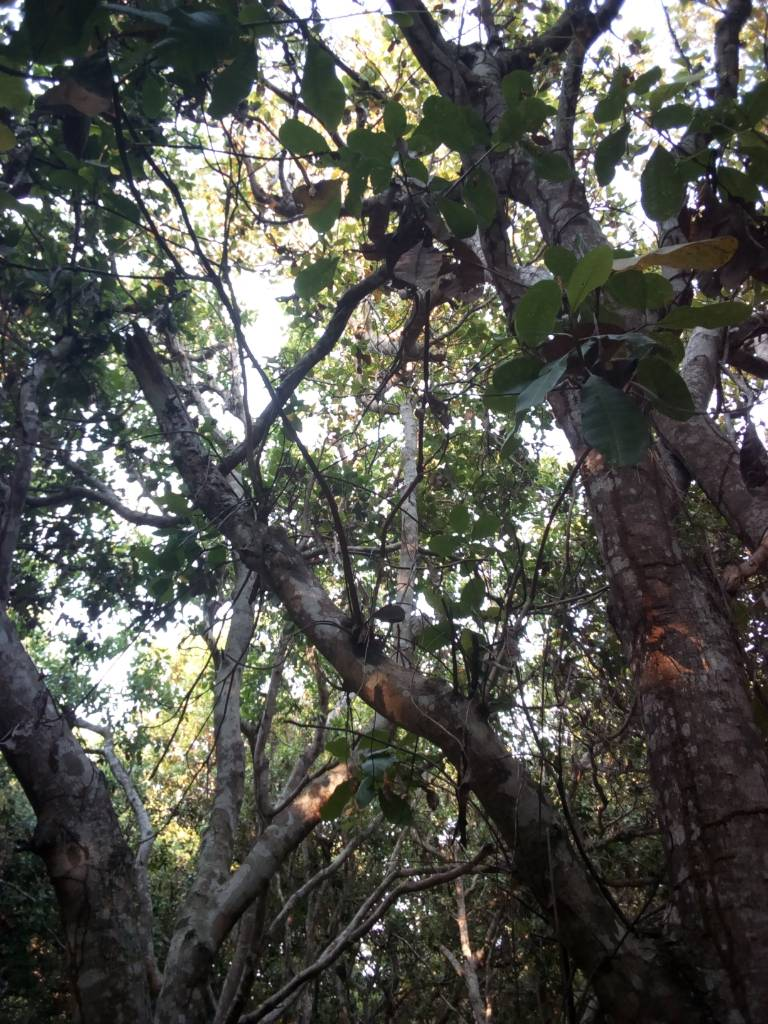Termites: (655, 599, 766, 1016)
